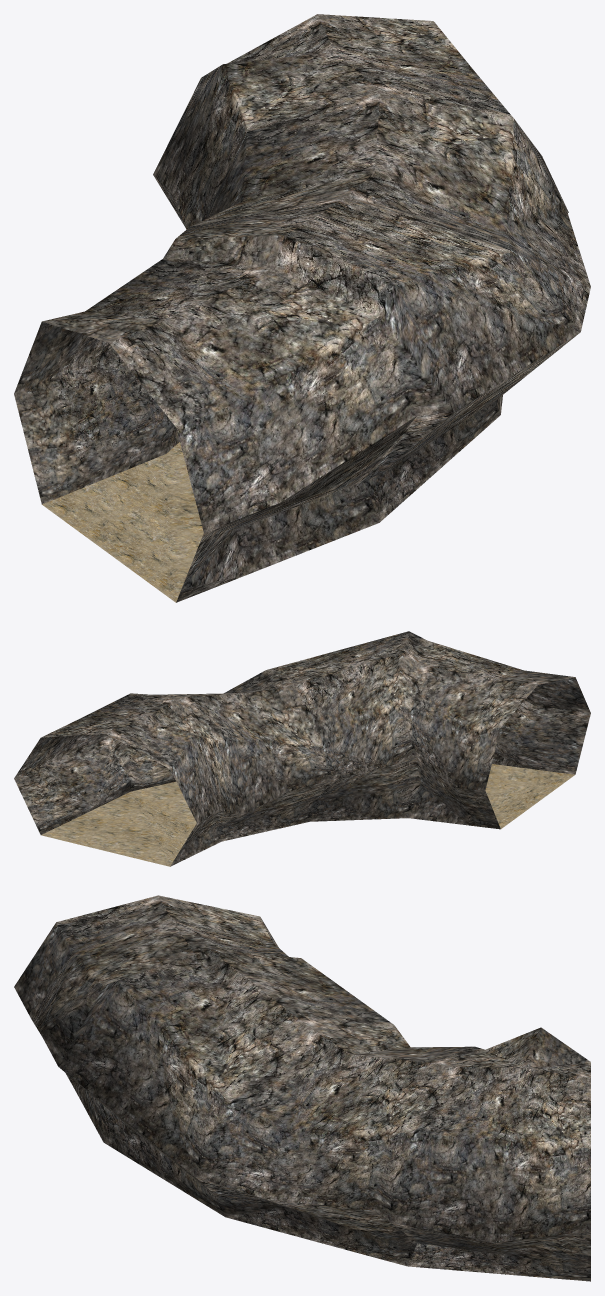
Rendered from pir_m_are_cav_curveWideRight.fbx.
3 renders of one model, top to bottom at view 1: azimuth 30°, elevation 25°; view 2: azimuth 150°, elevation 25°; view 3: azimuth 270°, elevation 25°, orthographic. The views are drawn at different scales.
Parts seen in each view (by area): view 1: standardCurveWide_right_wall, standardCurveWide_right_floor; view 2: standardCurveWide_right_wall, standardCurveWide_right_floor; view 3: standardCurveWide_right_wall.
Part boxes in pixels (x1,y1,x2,y2): standardCurveWide_right_wall: (14, 14, 590, 602); standardCurveWide_right_floor: (42, 442, 203, 602); standardCurveWide_right_wall: (14, 631, 590, 866); standardCurveWide_right_floor: (41, 764, 574, 866); standardCurveWide_right_wall: (14, 895, 590, 1281).
Size of the model in its own units: 20000 by 7029 by 20000.
2 materials, 2 textured.
